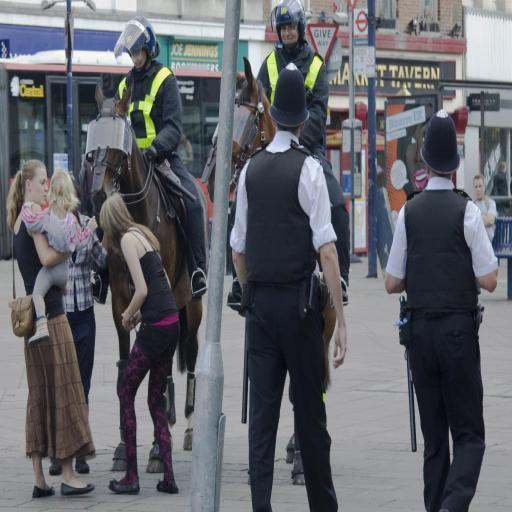horse: (206, 52, 340, 488), (92, 80, 212, 470)
